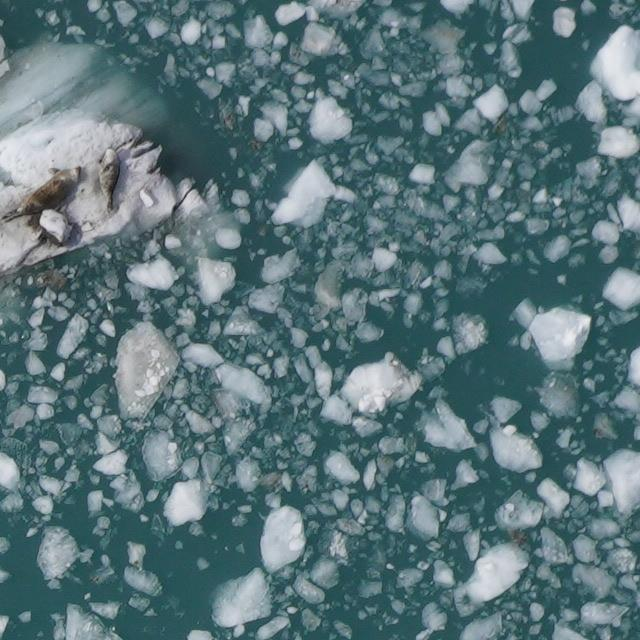seal: (0, 164, 80, 223), (100, 145, 119, 213)
